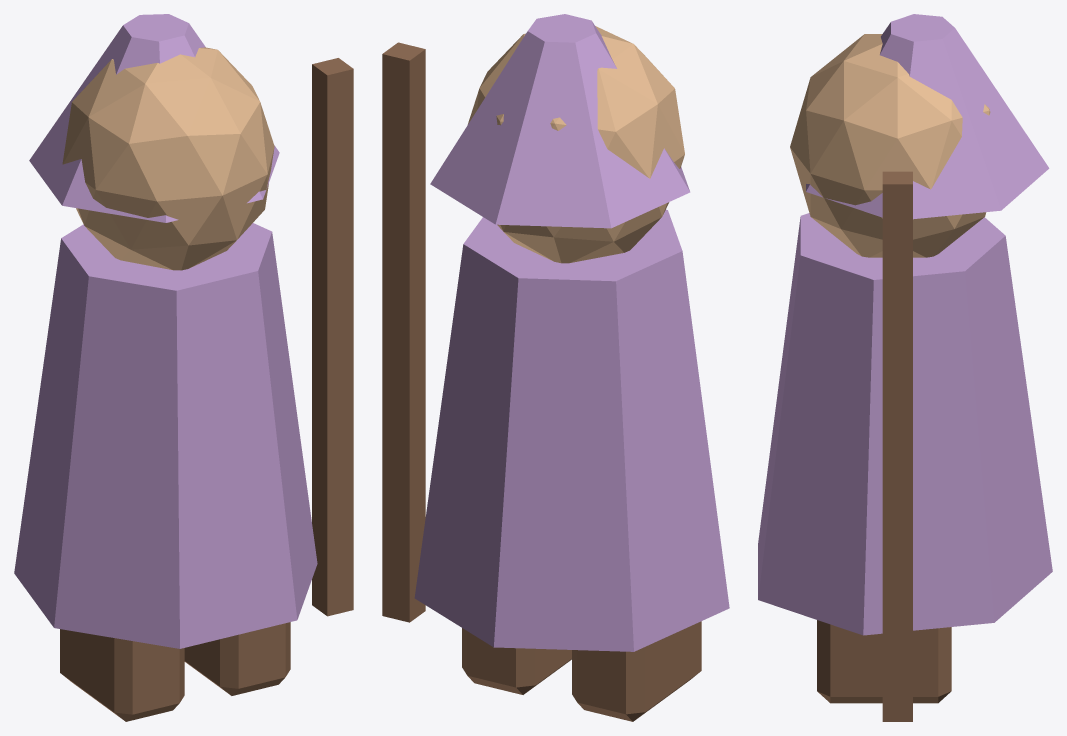
File: agent-3.glb
3 renders of one model, left to right at view 1: azimuth 30°, elevation 25°; view 2: azimuth 150°, elevation 25°; view 3: azimuth 270°, elevation 25°, orthographic. The views are drawn at different scales.
Visible parts, largest first — view 1: Body, Head, Staff, Boot, Hood, Boot.001; view 2: Body, Hood, Staff, Head, Boot, Boot.001; view 3: Body, Head, Staff, Hood, Boot.001.
Part boxes in pixels (x1,y1,x2,y2): Body: (14, 223, 317, 648); Head: (62, 47, 274, 270); Staff: (312, 58, 353, 616); Boot: (60, 629, 184, 721); Hood: (29, 14, 279, 222); Boot.001: (184, 622, 290, 695); Body: (414, 209, 729, 651); Hood: (430, 14, 690, 228); Staff: (382, 42, 425, 622); Head: (467, 26, 684, 263); Boot: (572, 621, 701, 721); Boot.001: (462, 628, 571, 694); Body: (758, 213, 1052, 635); Head: (790, 34, 990, 257); Staff: (882, 171, 912, 721); Hood: (806, 14, 1049, 219); Boot.001: (817, 620, 951, 703).
Size of the model in its own units: 0.5267 by 1.05 by 0.4372.
